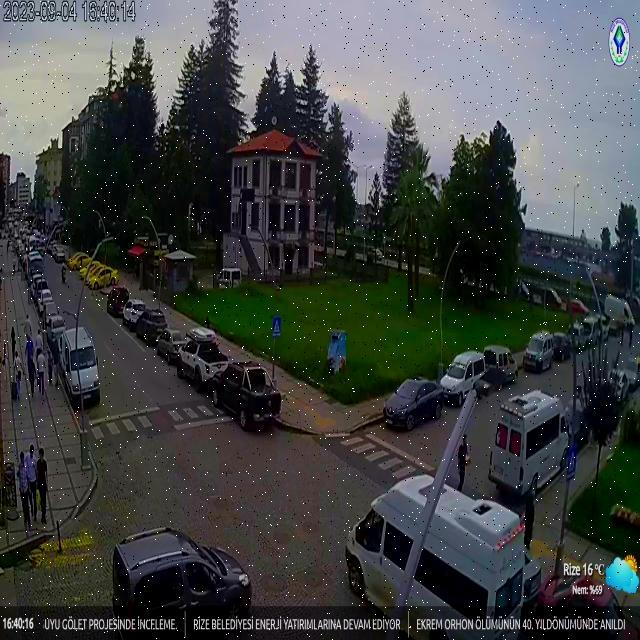Car: (110, 526, 253, 636), (528, 573, 628, 639), (382, 376, 446, 428), (440, 350, 488, 404), (482, 345, 518, 386), (135, 309, 170, 346), (524, 332, 554, 372), (156, 329, 189, 363), (122, 299, 148, 330), (106, 286, 130, 317), (45, 314, 66, 348), (36, 286, 57, 317), (550, 332, 572, 361), (89, 268, 118, 288)
Truck: (211, 359, 281, 428), (177, 337, 230, 389)
Van: (342, 473, 527, 637), (490, 391, 571, 496), (60, 328, 101, 406), (604, 293, 634, 331)
